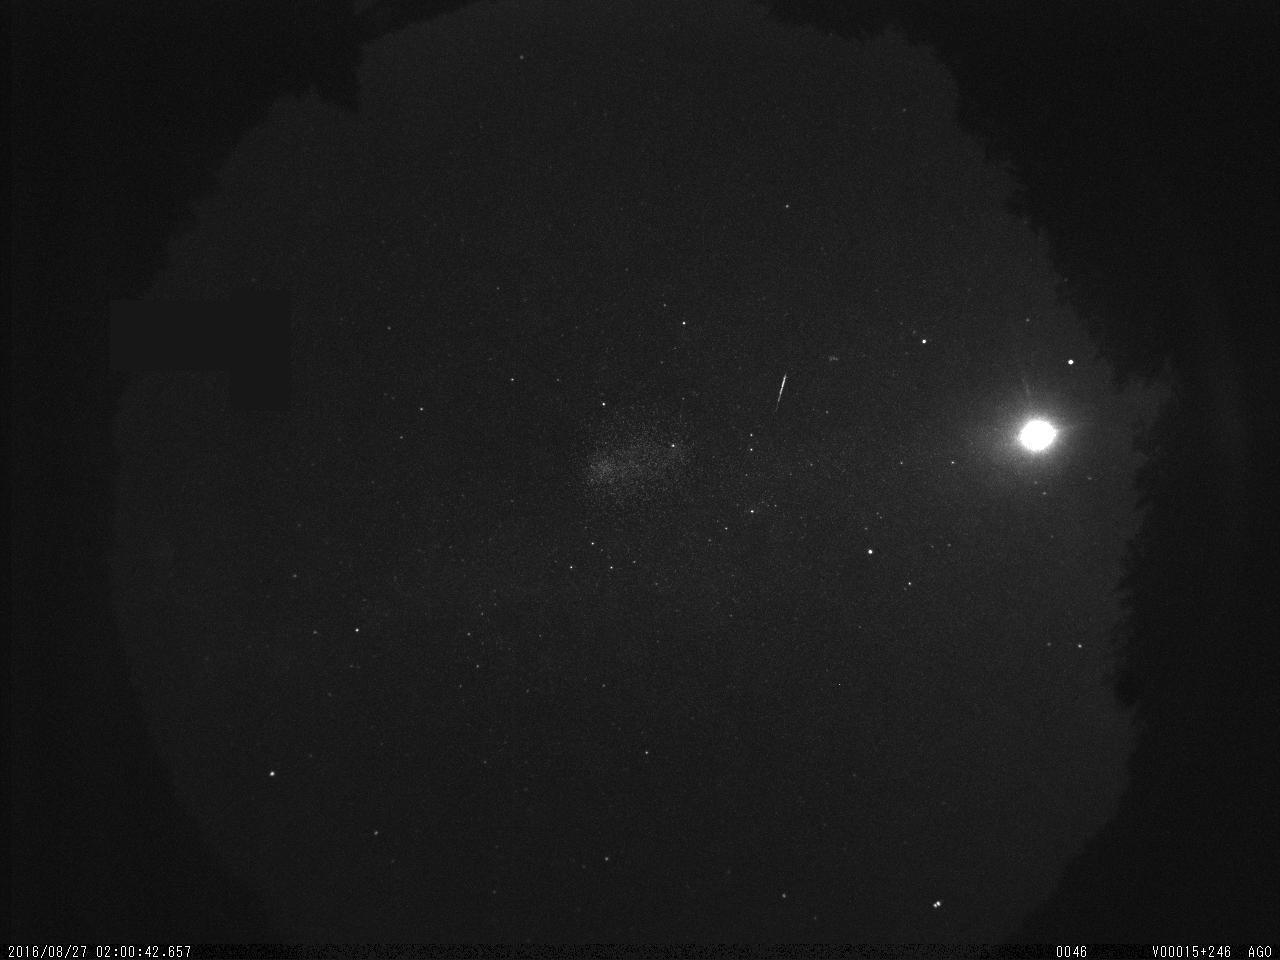meteor: (769, 360, 799, 426)
